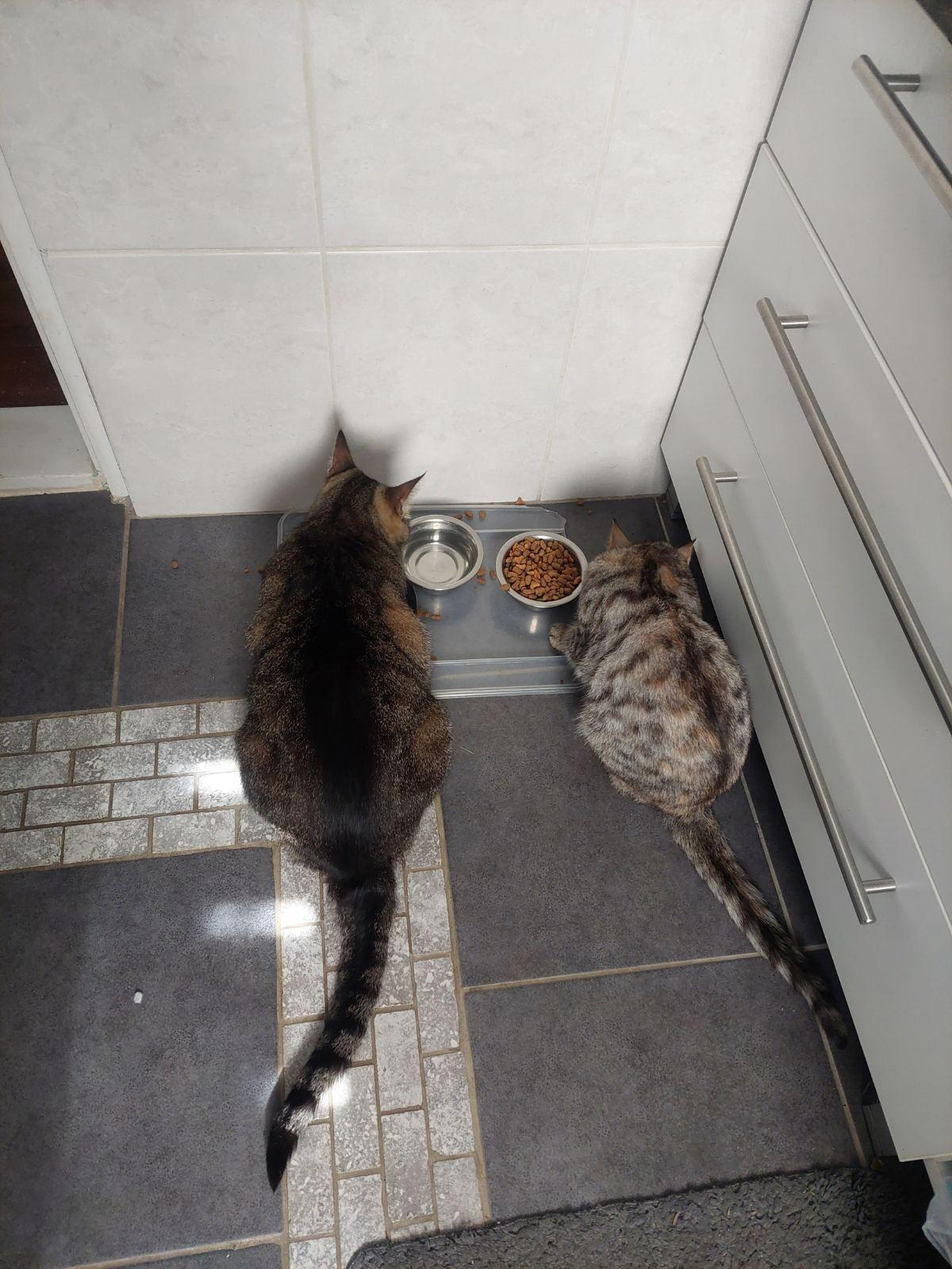macka: (236, 425, 454, 1194), (548, 514, 856, 1052)
